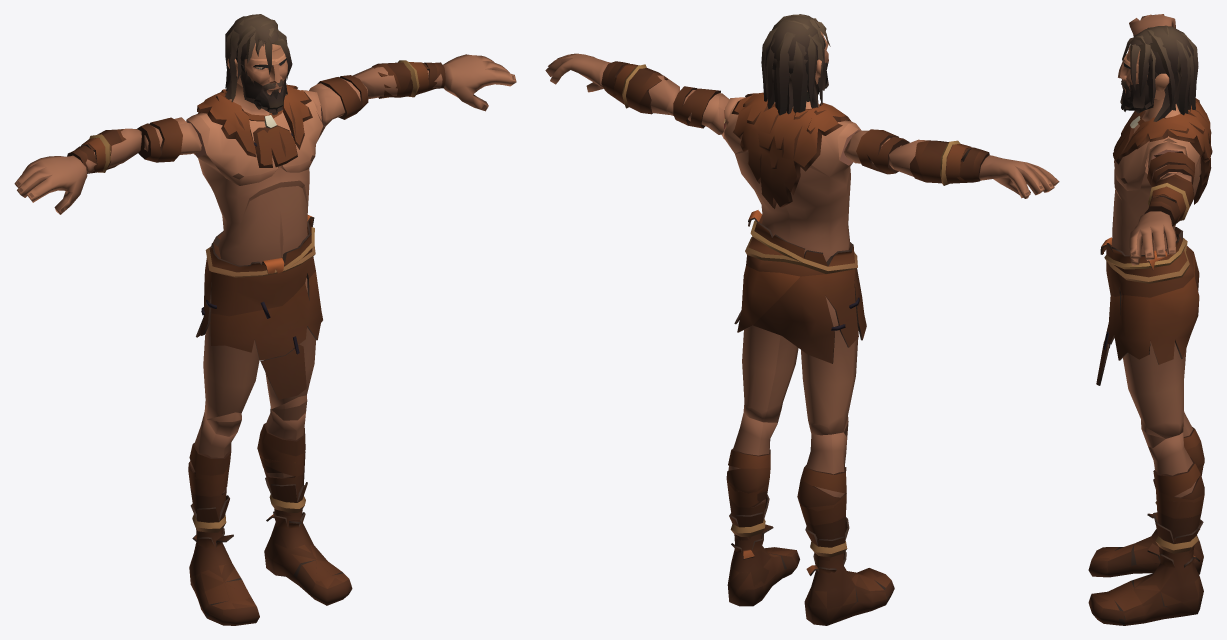
File: Male1.fbx
3 renders of one model, left to right at view 1: azimuth 30°, elevation 25°; view 2: azimuth 150°, elevation 25°; view 3: azimuth 270°, elevation 25°, orthographic. The views are drawn at different scales.
Visible parts, largest first — view 1: Body, Prehistoric_Male_Hips_1A, Prehistoric_Male_Avatar_1A.008, Prehistoric_Male_Boot_1A.L, Prehistoric_Male_Boot_1A.R, Prehistoric_Male_Torso_Fur_1A, Prehistoric_Male_Avatar_1A.003, Hand, Prehistoric_Male_Shin_Wrap_1A.L, Prehistoric_Male_Hair_4A, Prehistoric_Male_Shin_Wrap_1A.R, Prehistoric_Male_Boot_2A.L (+16 smaller); view 2: Prehistoric_Male_Hips_1A, Body, Prehistoric_Male_Torso_Fur_1A, Prehistoric_Male_Avatar_1A.008, Prehistoric_Male_Hair_4A, Prehistoric_Male_Avatar_1A.007, Prehistoric_Male_Boot_1A.R, Prehistoric_Male_Boot_1A.L, Prehistoric_Male_Forearm_Wrap_2A.R, Prehistoric_Male_Avatar_1A.003, Prehistoric_Male_Forearm_Wrap_2A.L, Prehistoric_Male_Shin_Wrap_1A.L (+13 smaller); view 3: Prehistoric_Male_Hips_1A, Prehistoric_Male_Boot_1A.L, Body, Prehistoric_Male_Avatar_1A.007, Prehistoric_Male_Hair_4A, Prehistoric_Male_Torso_Fur_1A, Prehistoric_Male_Boot_2A.L, Hand, Prehistoric_Male_Shin_Wrap_1A.L, Prehistoric_Male_Avatar_1A.013, Prehistoric_Male_Boot_1A.R, Prehistoric_Male_Forearm_Wrap_2A.L (+11 smaller).
Part boxes in pixels (x1=…): Body: x1=186, y1=83, x2=325, y2=277; Prehistoric_Male_Hips_1A: x1=196, y1=215, x2=322, y2=360; Prehistoric_Male_Avatar_1A.008: x1=203, y1=309, x2=259, y2=436; Prehistoric_Male_Boot_1A.L: x1=264, y1=477, x2=351, y2=605; Prehistoric_Male_Boot_1A.R: x1=189, y1=495, x2=259, y2=625; Prehistoric_Male_Torso_Fur_1A: x1=197, y1=84, x2=312, y2=157; Prehistoric_Male_Avatar_1A.003: x1=14, y1=155, x2=87, y2=214; Hand: x1=443, y1=54, x2=516, y2=111; Prehistoric_Male_Shin_Wrap_1A.L: x1=257, y1=423, x2=305, y2=496; Prehistoric_Male_Hair_4A: x1=225, y1=15, x2=292, y2=102; Prehistoric_Male_Shin_Wrap_1A.R: x1=188, y1=443, x2=231, y2=515; Prehistoric_Male_Boot_2A.L: x1=265, y1=511, x2=352, y2=601; Prehistoric_Male_Hips_1A: x1=734, y1=210, x2=866, y2=363; Body: x1=722, y1=97, x2=861, y2=261; Prehistoric_Male_Torso_Fur_1A: x1=731, y1=92, x2=851, y2=208; Prehistoric_Male_Avatar_1A.008: x1=801, y1=296, x2=858, y2=437; Prehistoric_Male_Hair_4A: x1=761, y1=14, x2=830, y2=115; Prehistoric_Male_Avatar_1A.007: x1=742, y1=325, x2=798, y2=422; Prehistoric_Male_Boot_1A.R: x1=805, y1=517, x2=893, y2=625; Prehistoric_Male_Boot_1A.L: x1=727, y1=494, x2=799, y2=606; Prehistoric_Male_Forearm_Wrap_2A.R: x1=910, y1=140, x2=989, y2=183; Prehistoric_Male_Avatar_1A.003: x1=979, y1=155, x2=1059, y2=198; Prehistoric_Male_Forearm_Wrap_2A.L: x1=601, y1=61, x2=667, y2=114; Prehistoric_Male_Shin_Wrap_1A.L: x1=726, y1=448, x2=770, y2=517; Prehistoric_Male_Hips_1A: x1=1100, y1=227, x2=1199, y2=364; Prehistoric_Male_Boot_1A.L: x1=1088, y1=512, x2=1203, y2=625; Body: x1=1112, y1=99, x2=1201, y2=255; Prehistoric_Male_Avatar_1A.007: x1=1123, y1=341, x2=1186, y2=438; Prehistoric_Male_Hair_4A: x1=1122, y1=25, x2=1198, y2=121; Prehistoric_Male_Torso_Fur_1A: x1=1118, y1=98, x2=1212, y2=204; Prehistoric_Male_Boot_2A.L: x1=1090, y1=543, x2=1200, y2=625; Hand: x1=1129, y1=211, x2=1175, y2=265; Prehistoric_Male_Shin_Wrap_1A.L: x1=1153, y1=457, x2=1204, y2=542; Prehistoric_Male_Avatar_1A.013: x1=1141, y1=429, x2=1196, y2=497; Prehistoric_Male_Boot_1A.R: x1=1088, y1=479, x2=1203, y2=577; Prehistoric_Male_Forearm_Wrap_2A.L: x1=1144, y1=174, x2=1194, y2=226.
Bounding box in the file's own units: 1.55 × 1.72 × 0.342.
